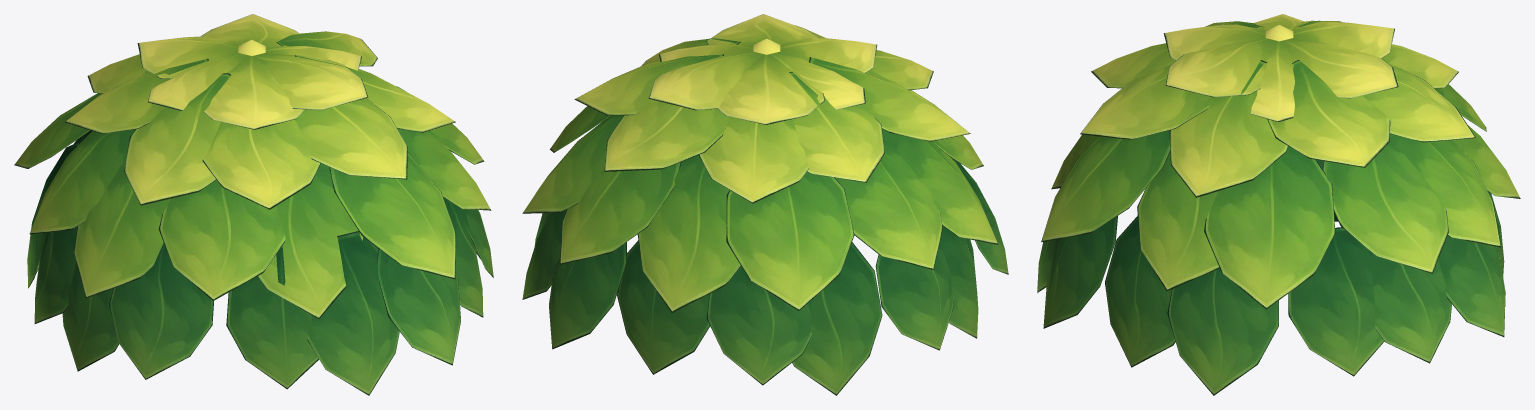
The model's file is leaf_clump.glb.
The picture shows the model from 3 angles, left to right: view 1: azimuth 30°, elevation 25°; view 2: azimuth 150°, elevation 25°; view 3: azimuth 270°, elevation 25°; orthographic projection.
Visible parts, largest first — view 1: leaf_clump; view 2: leaf_clump; view 3: leaf_clump.
Boxes of the visible parts, x1=… form: leaf_clump: x1=14, y1=14, x2=493, y2=395; leaf_clump: x1=522, y1=14, x2=1008, y2=395; leaf_clump: x1=1037, y1=14, x2=1520, y2=395.
Size of the model in its own units: 1.59 by 0.9668 by 1.55.
1 material, 1 textured.
